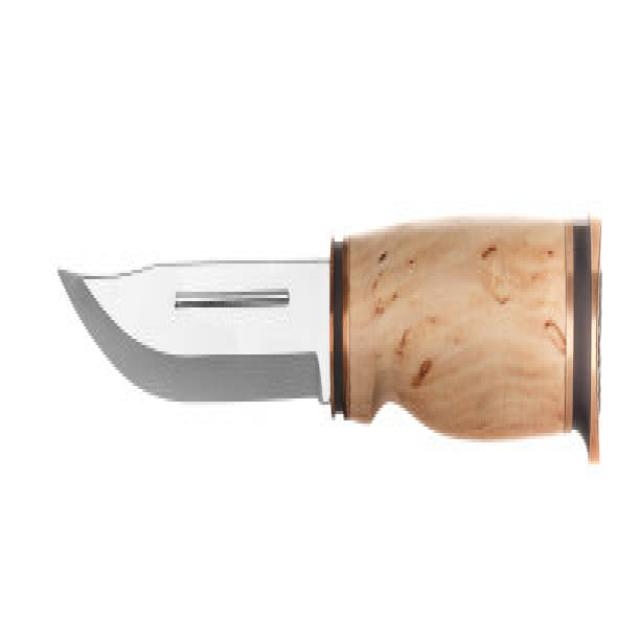knife: (51, 199, 620, 516)
